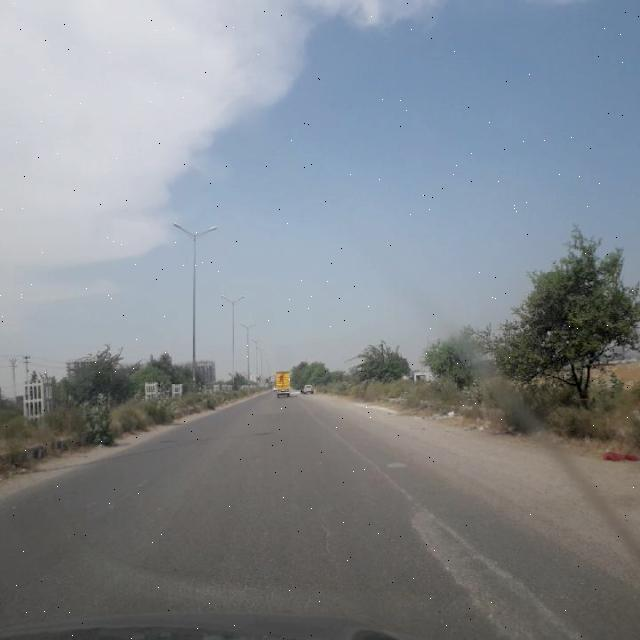D00: (327, 426, 567, 618), (319, 511, 338, 582)
